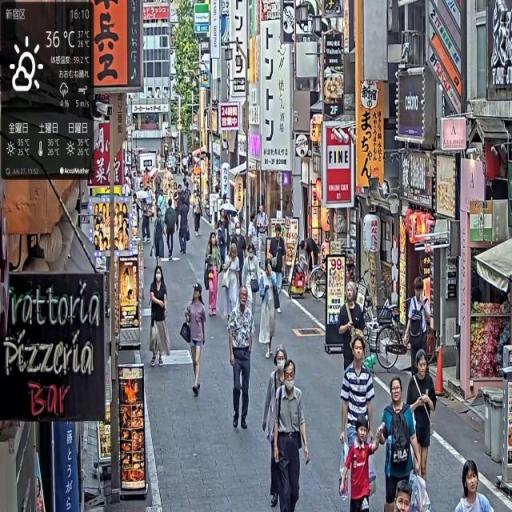person: (377, 373, 424, 511), (272, 358, 312, 512), (340, 333, 377, 497), (406, 349, 439, 495), (340, 415, 386, 512), (228, 285, 257, 432), (181, 283, 207, 398), (338, 283, 367, 376), (405, 279, 431, 378), (149, 268, 171, 369), (243, 241, 264, 340), (455, 459, 493, 512), (204, 233, 224, 320), (269, 225, 288, 316), (164, 199, 179, 262), (193, 191, 204, 238)
